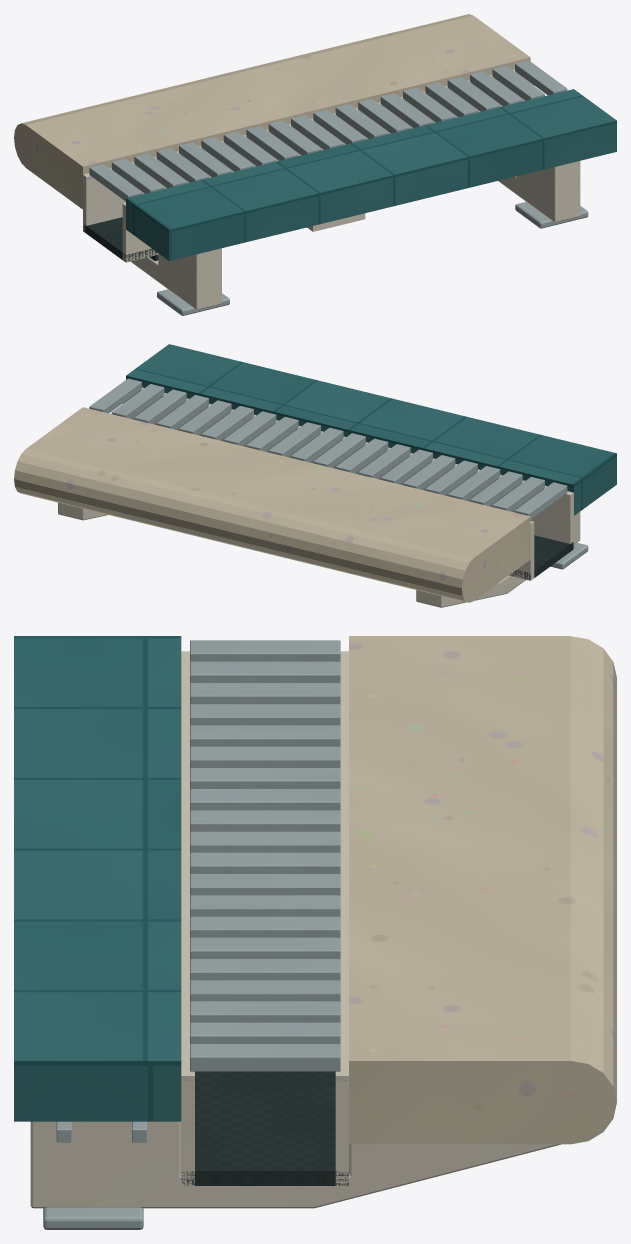
The model's file is AST-AQU-003.glb.
3 views of the same model, one above another, from view 1: azimuth 30°, elevation 25°; view 2: azimuth 150°, elevation 25°; view 3: azimuth 270°, elevation 25° (orthographic). The views are drawn at different scales.
Visible parts, largest first — view 1: AST-AQU-003__aquatic_edge_tile, AST-AQU-003__warm_stone, AST-AQU-003__aquatic_satin_alloy, AST-AQU-003__ivory_enamel, AST-AQU-003__aquatic_dark_grip; view 2: AST-AQU-003__warm_stone, AST-AQU-003__aquatic_edge_tile, AST-AQU-003__aquatic_satin_alloy, AST-AQU-003__ivory_enamel, AST-AQU-003__aquatic_dark_grip; view 3: AST-AQU-003__warm_stone, AST-AQU-003__aquatic_edge_tile, AST-AQU-003__aquatic_satin_alloy, AST-AQU-003__ivory_enamel, AST-AQU-003__aquatic_dark_grip.
Boxes of the visible parts, <box> form: AST-AQU-003__aquatic_edge_tile: <box>126,89,616,260</box>; AST-AQU-003__warm_stone: <box>14,14,530,209</box>; AST-AQU-003__aquatic_satin_alloy: <box>84,60,588,315</box>; AST-AQU-003__ivory_enamel: <box>83,69,580,309</box>; AST-AQU-003__aquatic_dark_grip: <box>83,217,158,261</box>; AST-AQU-003__warm_stone: <box>14,407,530,602</box>; AST-AQU-003__aquatic_edge_tile: <box>126,344,616,515</box>; AST-AQU-003__aquatic_satin_alloy: <box>89,378,588,569</box>; AST-AQU-003__ivory_enamel: <box>58,387,580,607</box>; AST-AQU-003__aquatic_dark_grip: <box>510,535,573,580</box>; AST-AQU-003__warm_stone: <box>349,636,616,1144</box>; AST-AQU-003__aquatic_edge_tile: <box>14,636,181,1121</box>; AST-AQU-003__aquatic_satin_alloy: <box>43,640,348,1229</box>; AST-AQU-003__ivory_enamel: <box>30,651,561,1208</box>; AST-AQU-003__aquatic_dark_grip: <box>181,1071,348,1185</box>.
Size of the model in its own units: 1.22 by 0.25 by 0.72.
5 materials, 5 textured.
